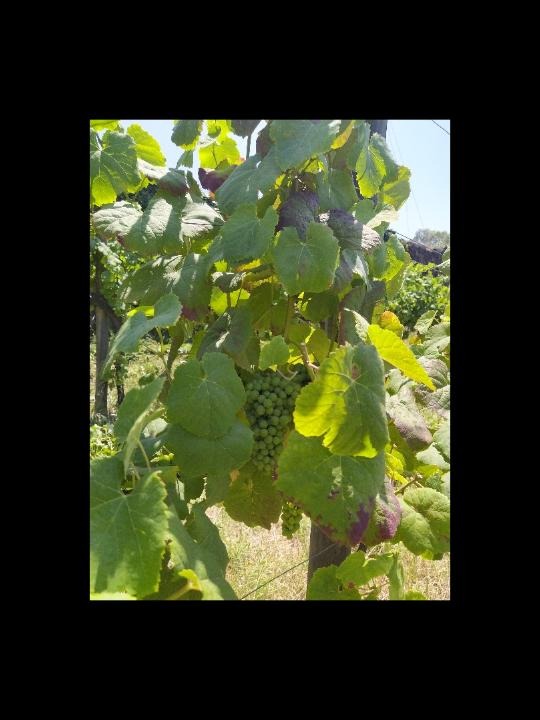grape: (240, 369, 303, 477)
